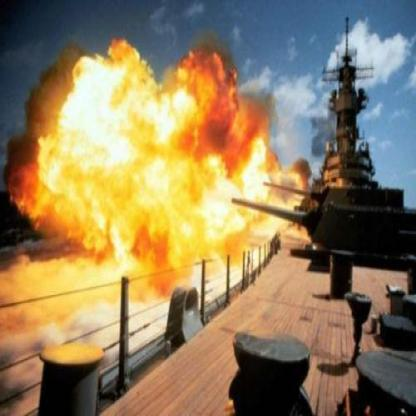fire: (24, 29, 290, 272)
